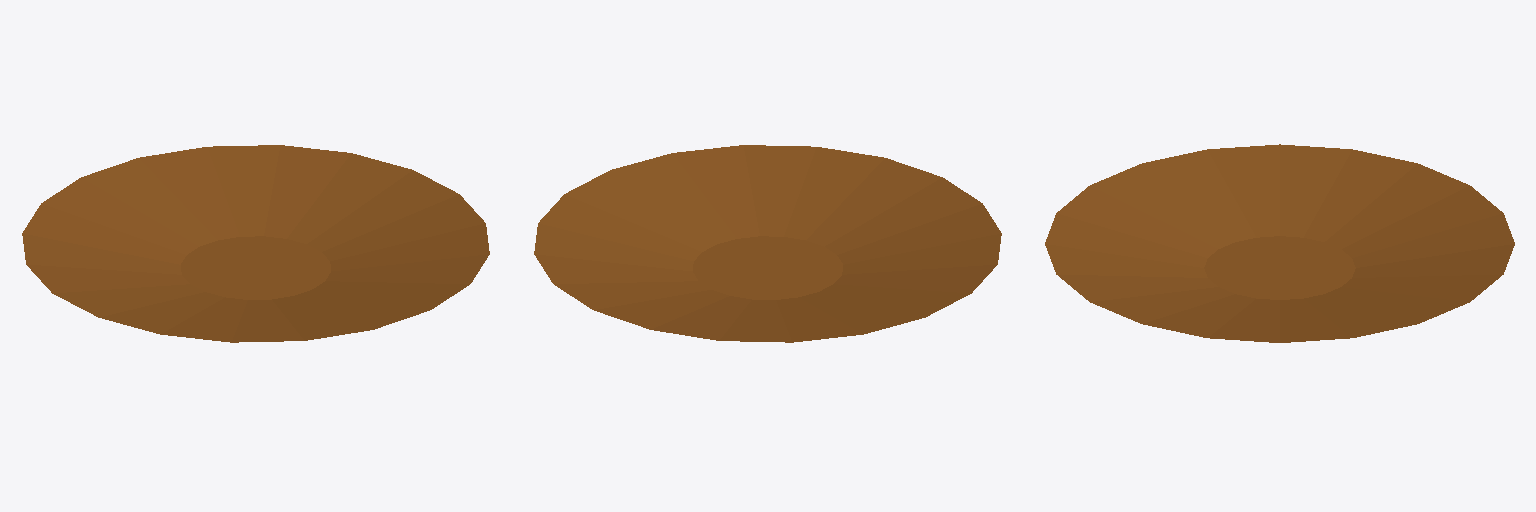
Rendered from plate2B(F21).obj.
The picture shows the model from 3 angles: view 1: azimuth 30°, elevation 25°; view 2: azimuth 150°, elevation 25°; view 3: azimuth 270°, elevation 25°; orthographic projection.
Parts seen in each view (by area): view 1: Cylinder.006; view 2: Cylinder.006; view 3: Cylinder.006.
Part boxes in pixels (bbox=[...]): Cylinder.006: bbox=[22, 145, 489, 342]; Cylinder.006: bbox=[534, 145, 1001, 342]; Cylinder.006: bbox=[1045, 144, 1514, 342].
Bounding box in the file's own units: 2.88 × 0.1641 × 2.88.